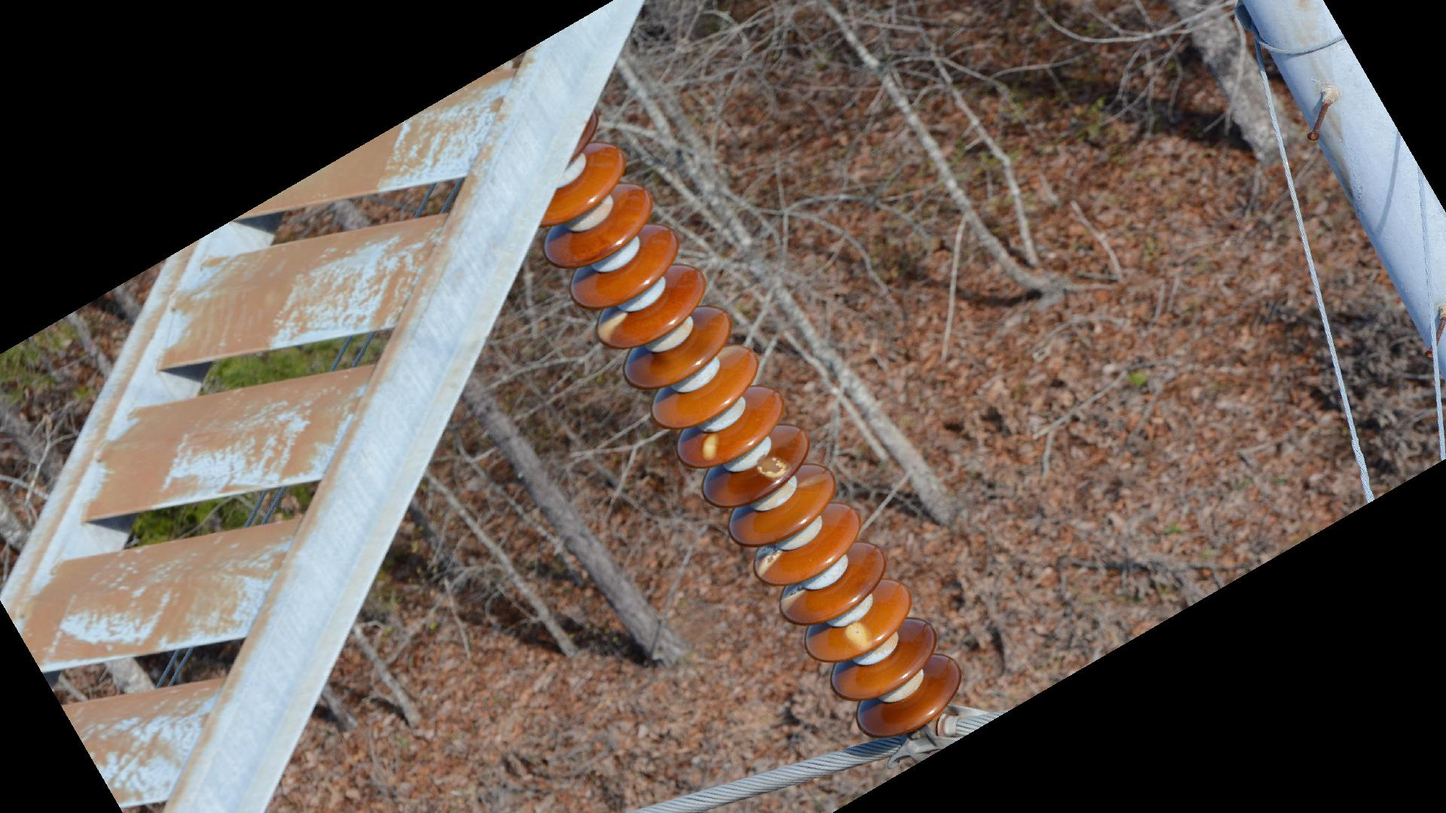insulator: (540, 139, 968, 744)
insulator_flashover: (593, 306, 630, 347), (755, 453, 795, 481), (752, 542, 783, 578), (842, 620, 874, 651), (697, 429, 721, 462)
